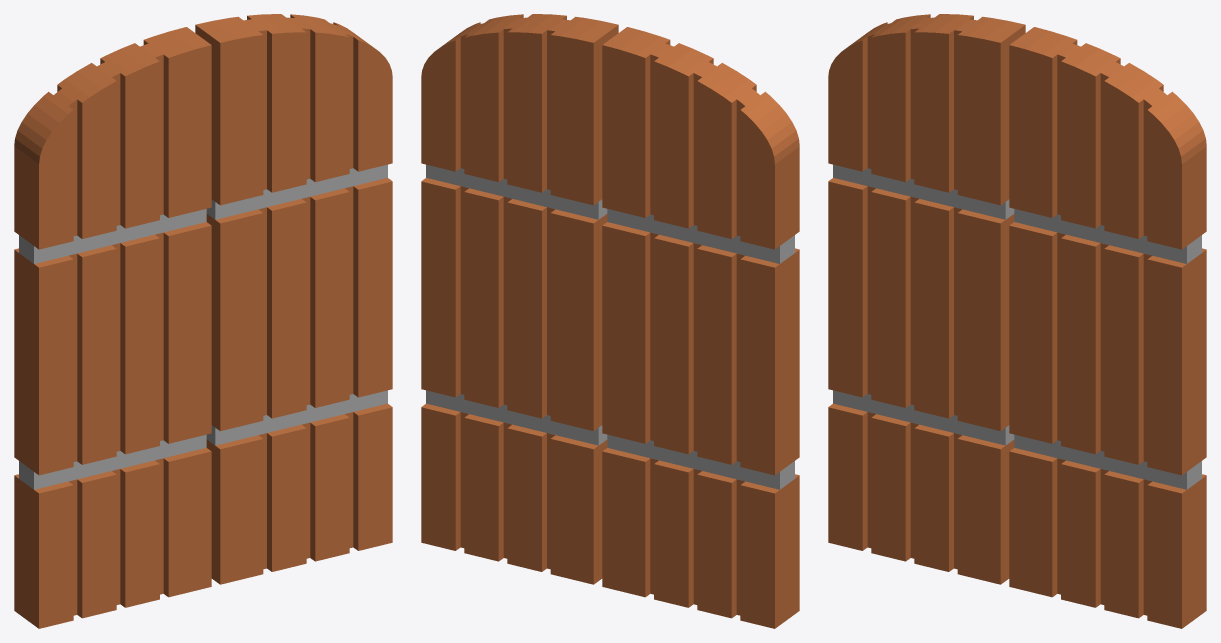
File: Door.fbx
The picture shows the model from 3 angles, left to right: view 1: azimuth 30°, elevation 25°; view 2: azimuth 150°, elevation 25°; view 3: azimuth 330°, elevation 25°; orthographic projection.
Visible parts, largest first — view 1: obj_0.029; view 2: obj_0.029; view 3: obj_0.029.
Boxes of the visible parts, x1=… form: obj_0.029: x1=14, y1=14, x2=392, y2=628; obj_0.029: x1=421, y1=14, x2=799, y2=628; obj_0.029: x1=828, y1=14, x2=1206, y2=628.
Bounding box in the file's own units: 4099 × 6000 × 500.
